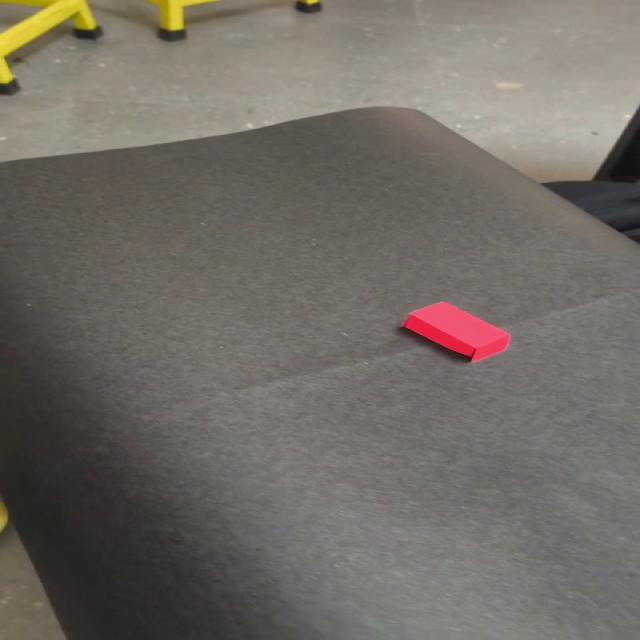red block: (400, 300, 511, 362)
